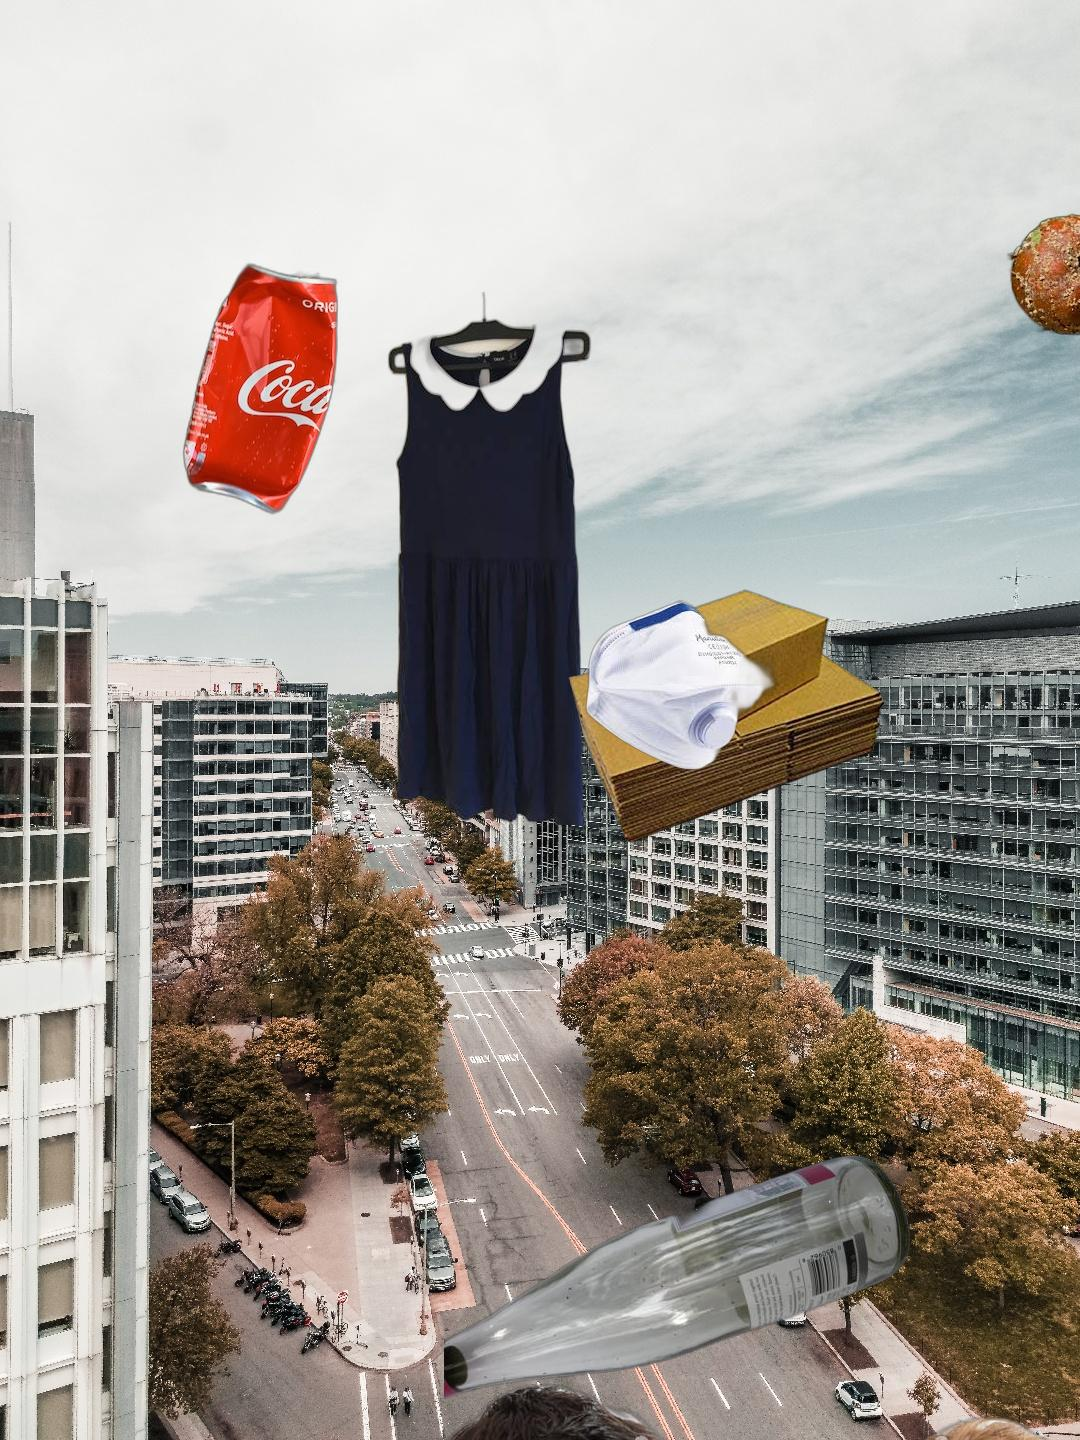biological: (1004, 211, 1080, 363)
clothes: (383, 293, 594, 825)
glass: (444, 1140, 916, 1401)
metal-cans: (179, 259, 341, 519)
trash: (583, 598, 779, 773)
trashbox-cardboard: (567, 588, 887, 844), (140, 1377, 1080, 1440)
